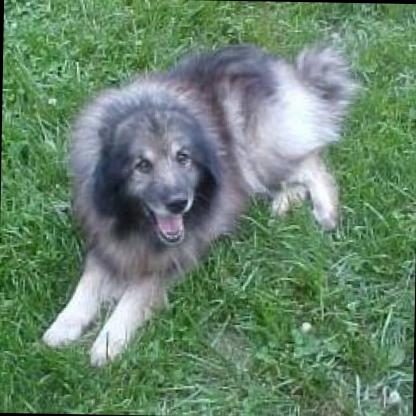keeshond: (35, 31, 367, 371)
